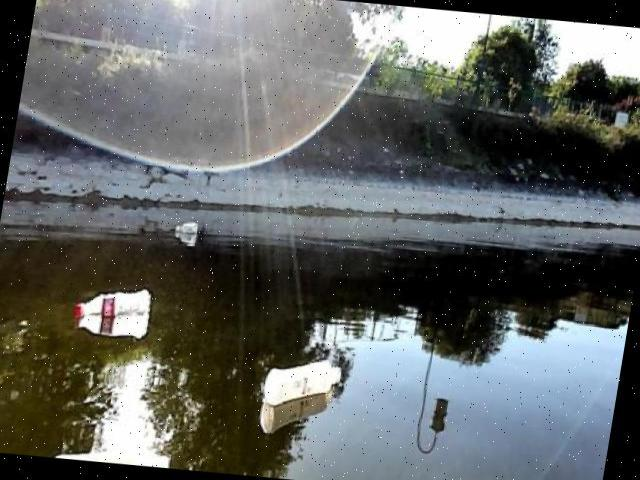Bottle: (255, 356, 351, 410), (68, 286, 158, 326)
Waste: (168, 219, 206, 241)
